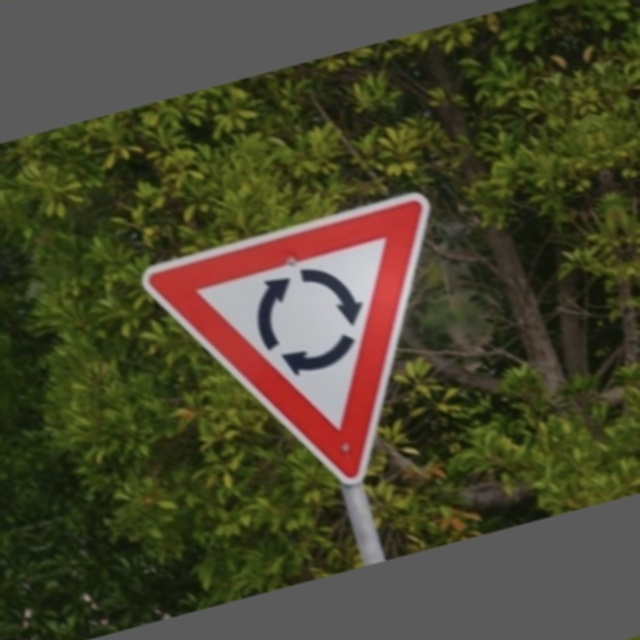Round_About: (139, 180, 490, 517)
